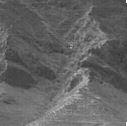Target: (65, 40, 77, 49)
